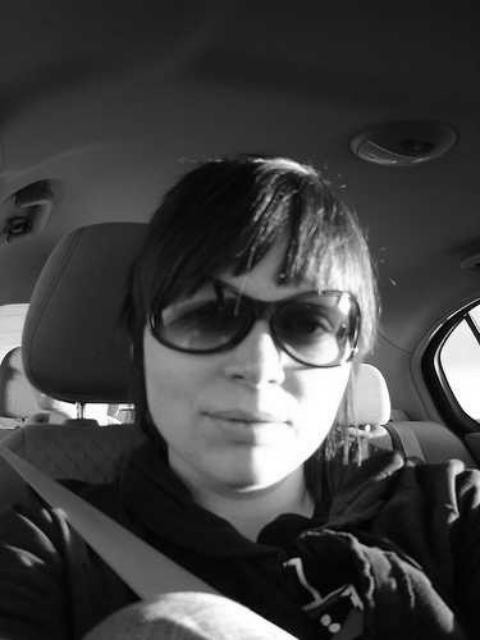SafeDriving: (166, 284, 244, 339), (275, 302, 338, 348)
Seatbelt: (0, 428, 232, 610)
